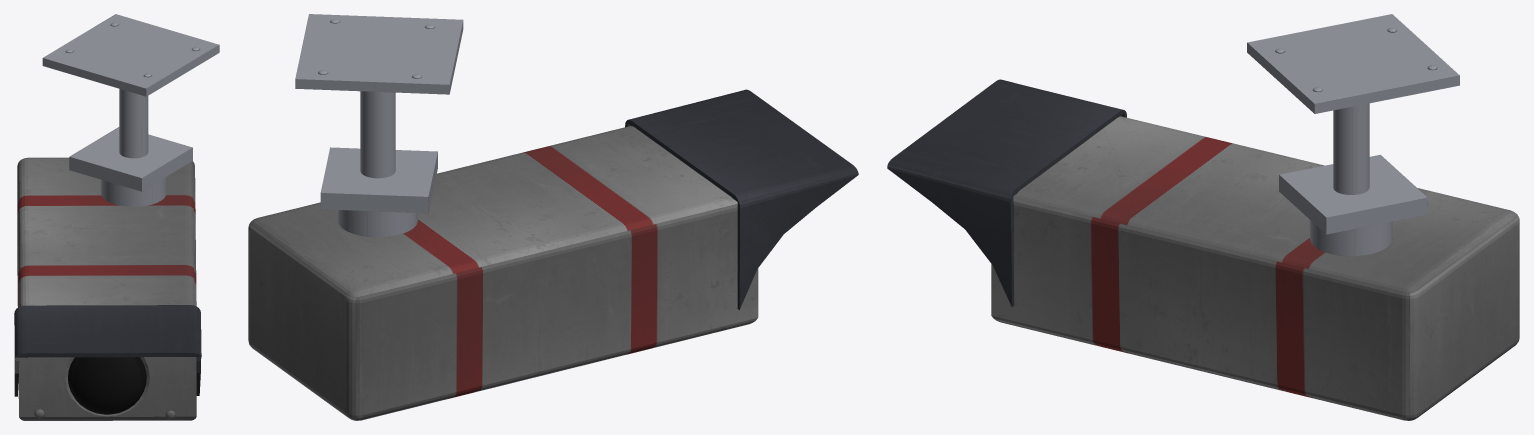
3 renders of one model, left to right at view 1: azimuth 30°, elevation 25°; view 2: azimuth 150°, elevation 25°; view 3: azimuth 270°, elevation 25°, orthographic. The views are drawn at different scales.
Parts seen in each view (by area): view 1: Cilindro; view 2: Cilindro; view 3: Cilindro.
Part boxes in pixels (bbox=[...]): Cilindro: bbox=[14, 14, 219, 420]; Cilindro: bbox=[248, 14, 858, 420]; Cilindro: bbox=[887, 14, 1519, 420].
Size of the model in its own units: 0.2266 by 0.16 by 0.2902.
1 material, 1 textured.
